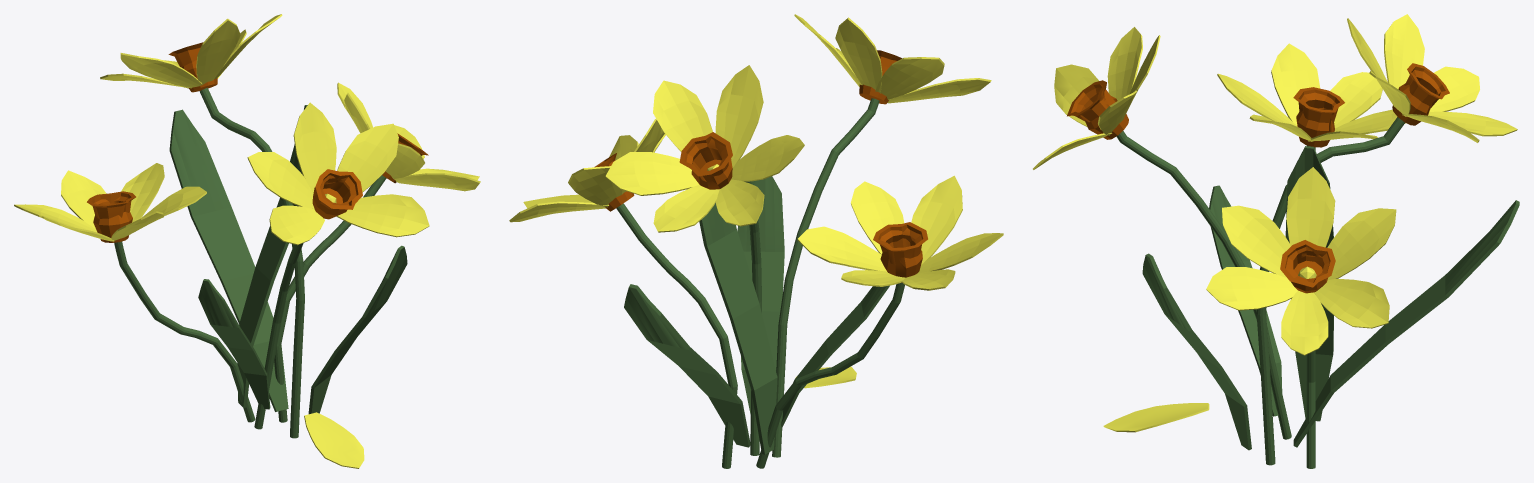
Rendered from Daffodil_426_te1.glb.
3 renders of one model, left to right at view 1: azimuth 30°, elevation 25°; view 2: azimuth 150°, elevation 25°; view 3: azimuth 270°, elevation 25°, orthographic. The views are drawn at different scales.
Visible parts, largest first — view 1: buffer-0-mesh-0_2, buffer-0-mesh-0_4, buffer-0-mesh-0_3; view 2: buffer-0-mesh-0_2, buffer-0-mesh-0_4, buffer-0-mesh-0_3; view 3: buffer-0-mesh-0_2, buffer-0-mesh-0_4, buffer-0-mesh-0_3.
Part boxes in pixels (x1,y1,x2,y2): buffer-0-mesh-0_2: [14, 14, 480, 468]; buffer-0-mesh-0_4: [114, 87, 407, 438]; buffer-0-mesh-0_3: [87, 42, 428, 242]; buffer-0-mesh-0_2: [509, 14, 1003, 388]; buffer-0-mesh-0_4: [616, 98, 904, 468]; buffer-0-mesh-0_3: [594, 50, 927, 282]; buffer-0-mesh-0_2: [1033, 14, 1517, 432]; buffer-0-mesh-0_4: [1116, 117, 1519, 468]; buffer-0-mesh-0_3: [1067, 63, 1449, 293].
Bounding box in the file's own units: 120 × 103 × 106.
